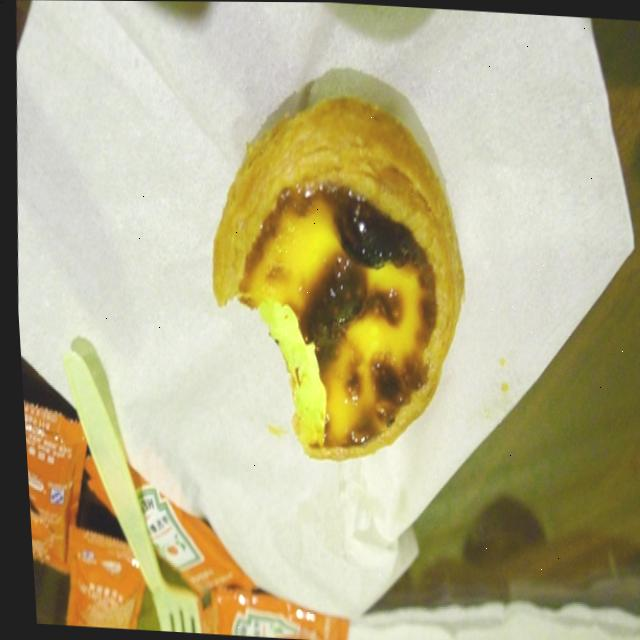炸货点心: (166, 53, 504, 514)
蛋糕甜品: (166, 53, 504, 514)
